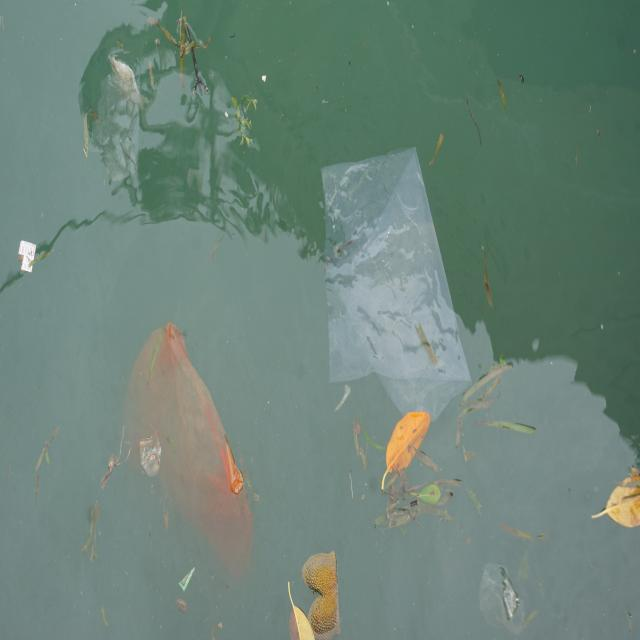Kantong Plastik: (319, 147, 476, 423), (117, 319, 256, 580), (94, 55, 148, 196)
